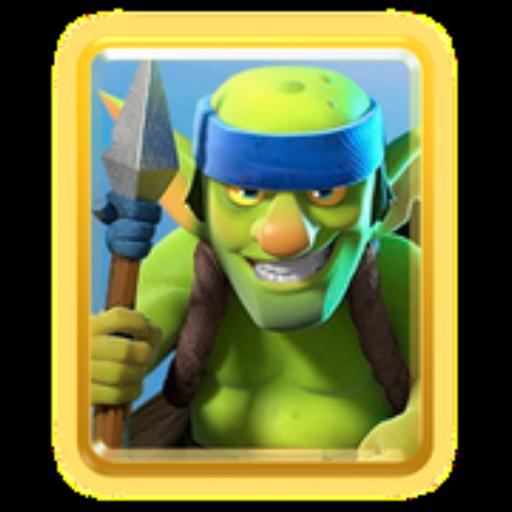spear-goblins: (89, 60, 413, 458)
